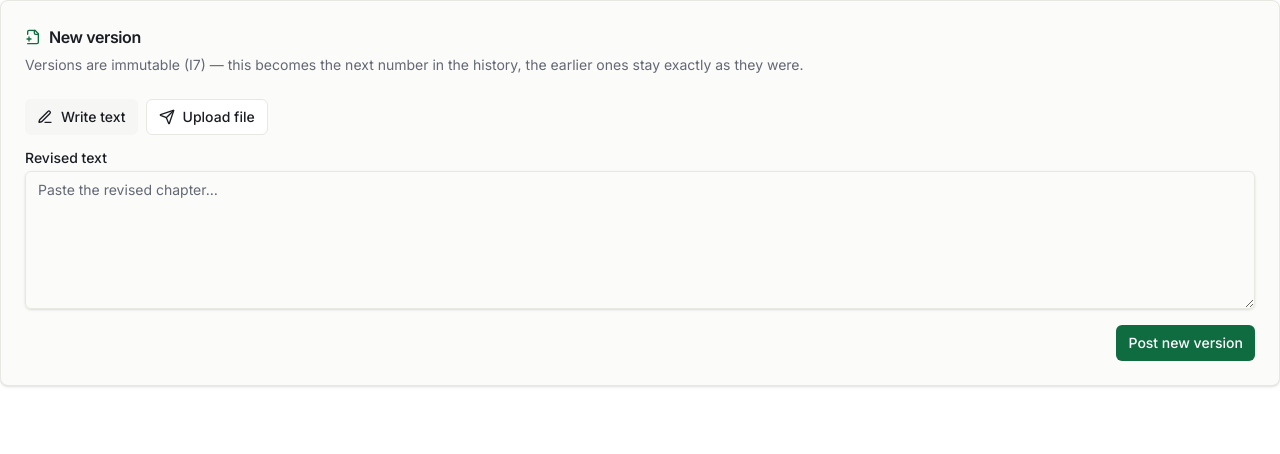
Test: VersionComposer (§11.5 new version, task 11.3 history) › refuses an empty file version with an inline error
Click the button "Upload file" at (207, 117), box [146,99,268,135]
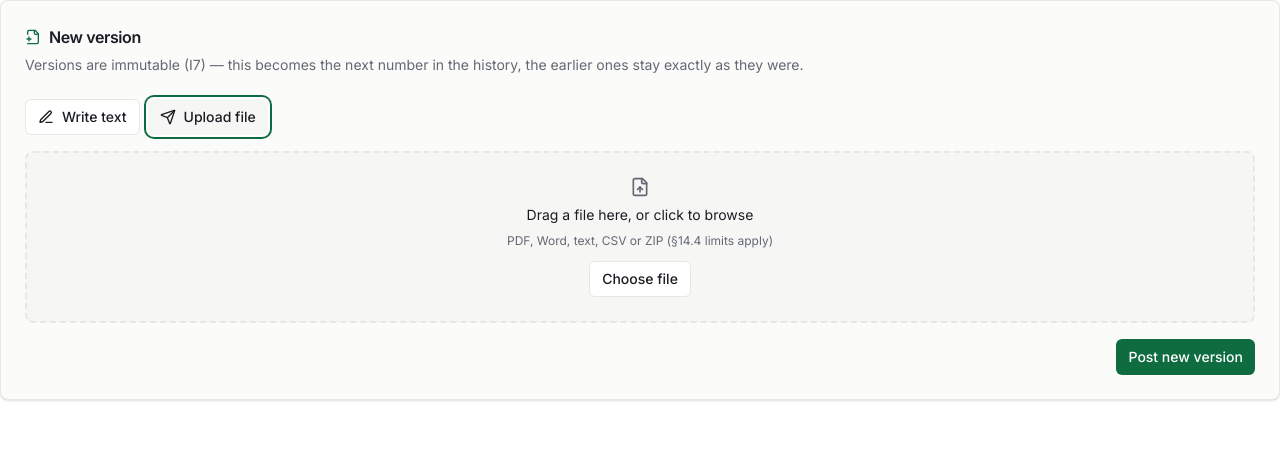
Click the button "Post new version" at (1186, 357), box [1116,339,1255,375]
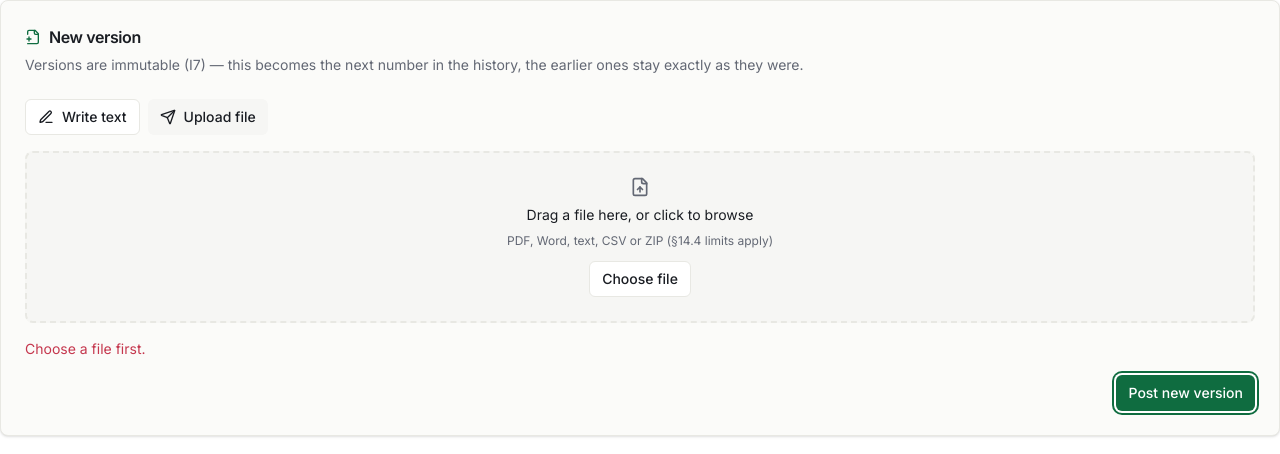
Now the message reads "Choose a file first.", box [25,340,146,357]
